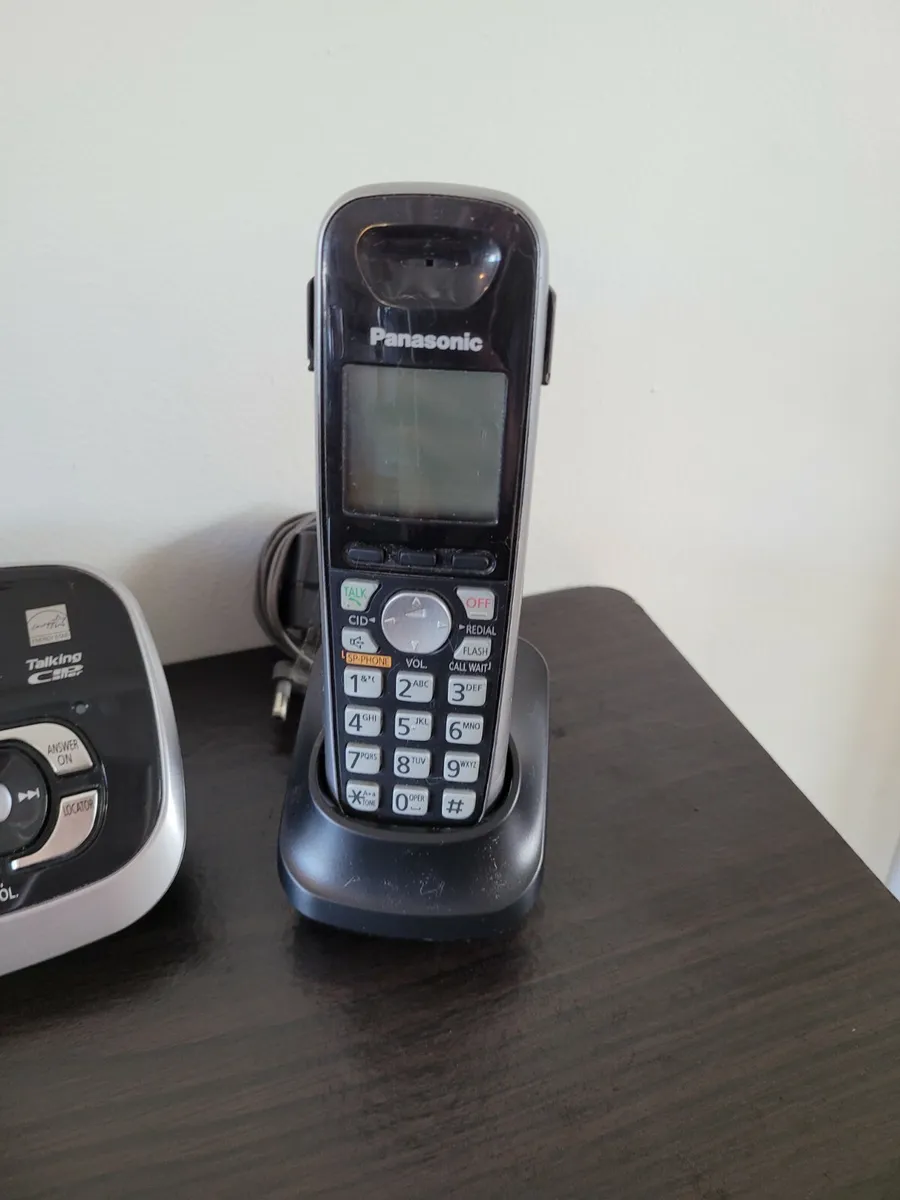telephone: (299, 179, 561, 848)
